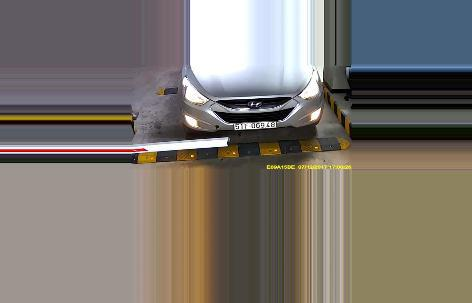License_Plate: (234, 120, 279, 130)
